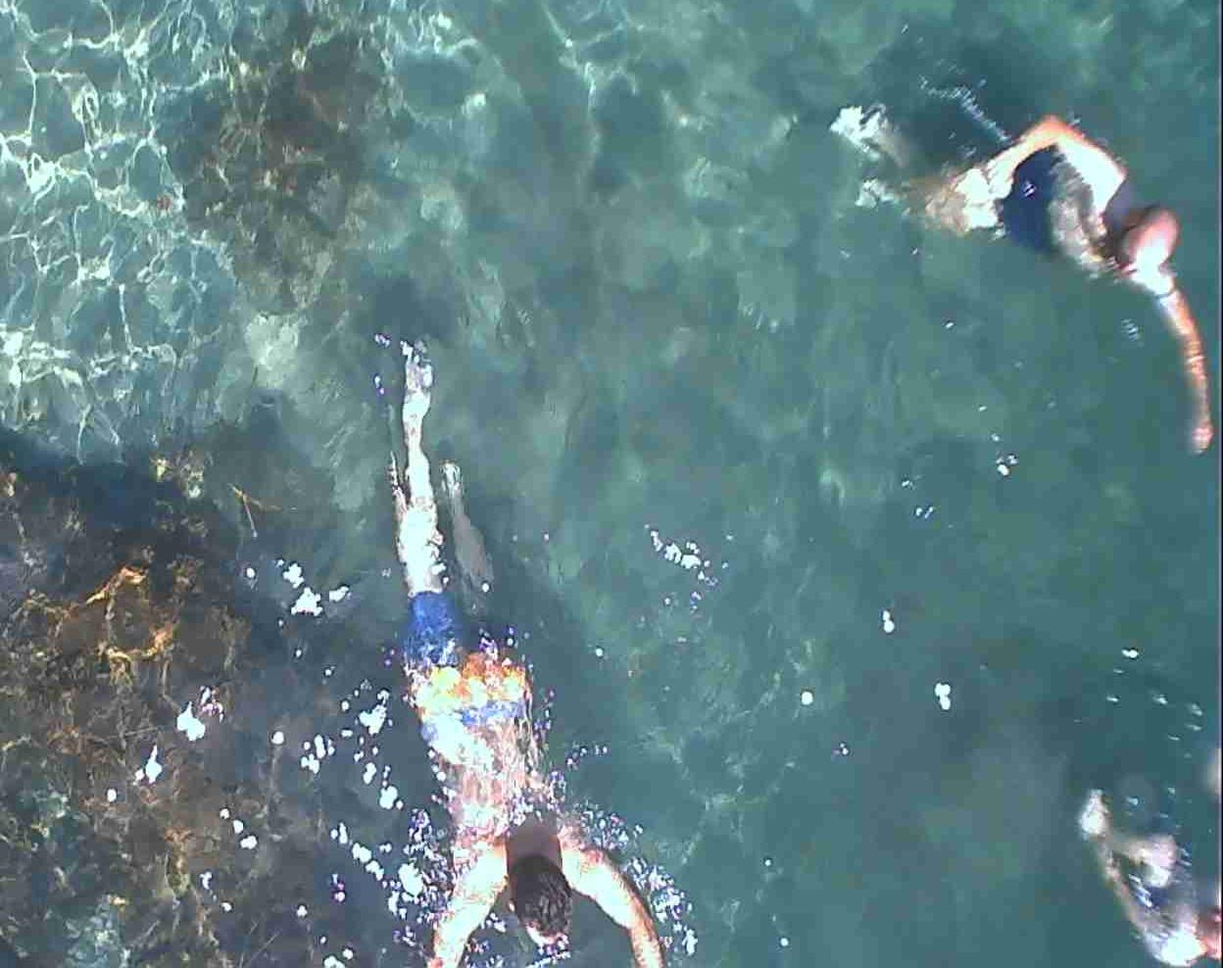swimmer: (849, 43, 1195, 444), (0, 0, 1, 1)
